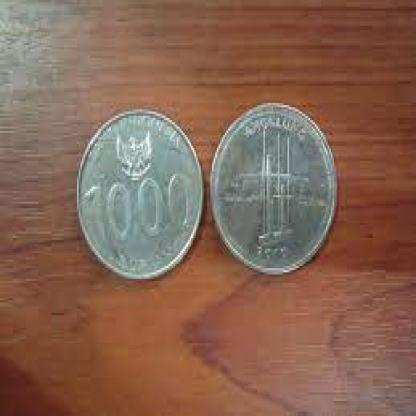coin_1000_e2010: (209, 98, 346, 282), (75, 105, 205, 280)
